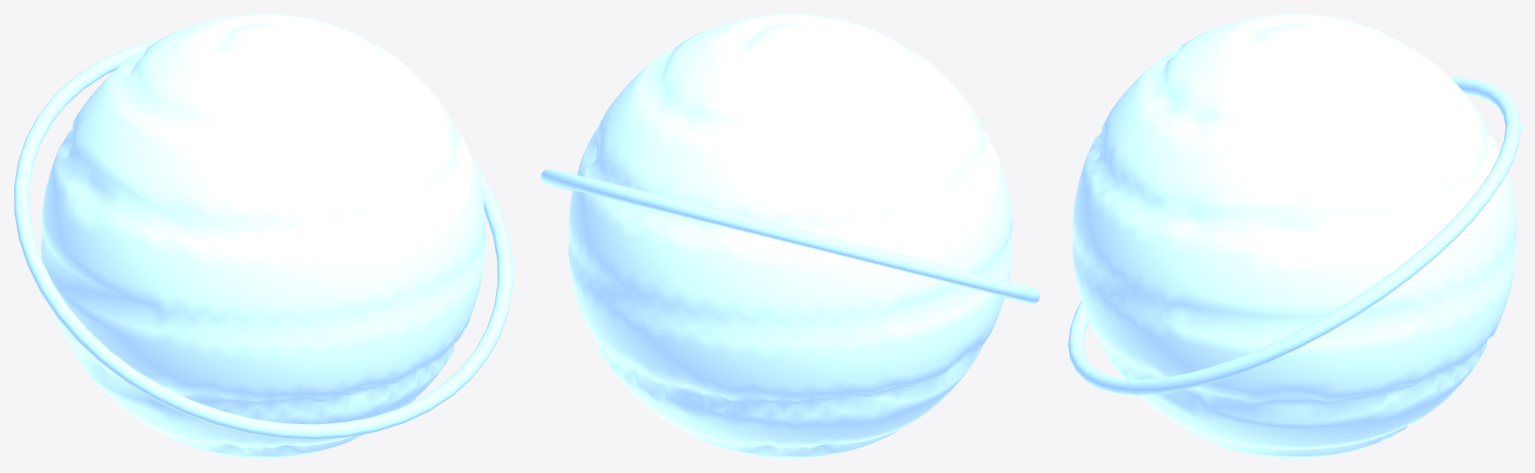
File: moonlight.glb
3 views of the same model, side by side, from view 1: azimuth 30°, elevation 25°; view 2: azimuth 150°, elevation 25°; view 3: azimuth 270°, elevation 25° (orthographic).
Parts seen in each view (by area): view 1: moonlight; view 2: moonlight; view 3: moonlight.
Boxes of the visible parts, x1,y1,x2,y2 form: moonlight: (14, 14, 512, 458); moonlight: (541, 14, 1039, 458); moonlight: (1068, 14, 1520, 458).
Bounding box in the file's own units: 0.07 × 0.0606 × 0.0617.
